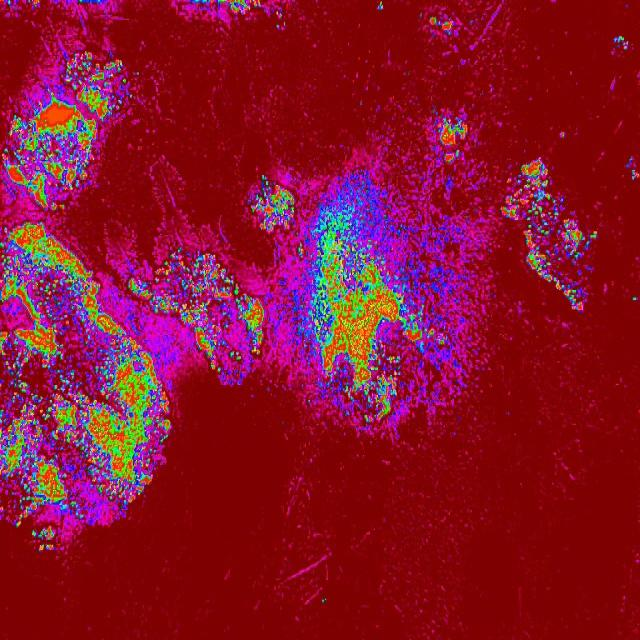fire: (292, 176, 478, 432), (0, 323, 125, 527), (1, 48, 132, 212), (124, 246, 265, 386), (500, 153, 600, 321), (0, 221, 117, 325), (124, 386, 172, 504), (250, 173, 294, 234), (428, 109, 473, 168), (418, 5, 462, 46), (184, 0, 263, 19), (28, 527, 58, 555), (624, 154, 640, 182), (270, 6, 286, 32), (610, 30, 630, 50), (24, 0, 44, 10), (78, 0, 102, 5), (376, 0, 386, 11), (558, 130, 568, 140), (320, 596, 328, 606), (630, 294, 638, 302), (134, 70, 142, 75), (6, 0, 12, 6)
